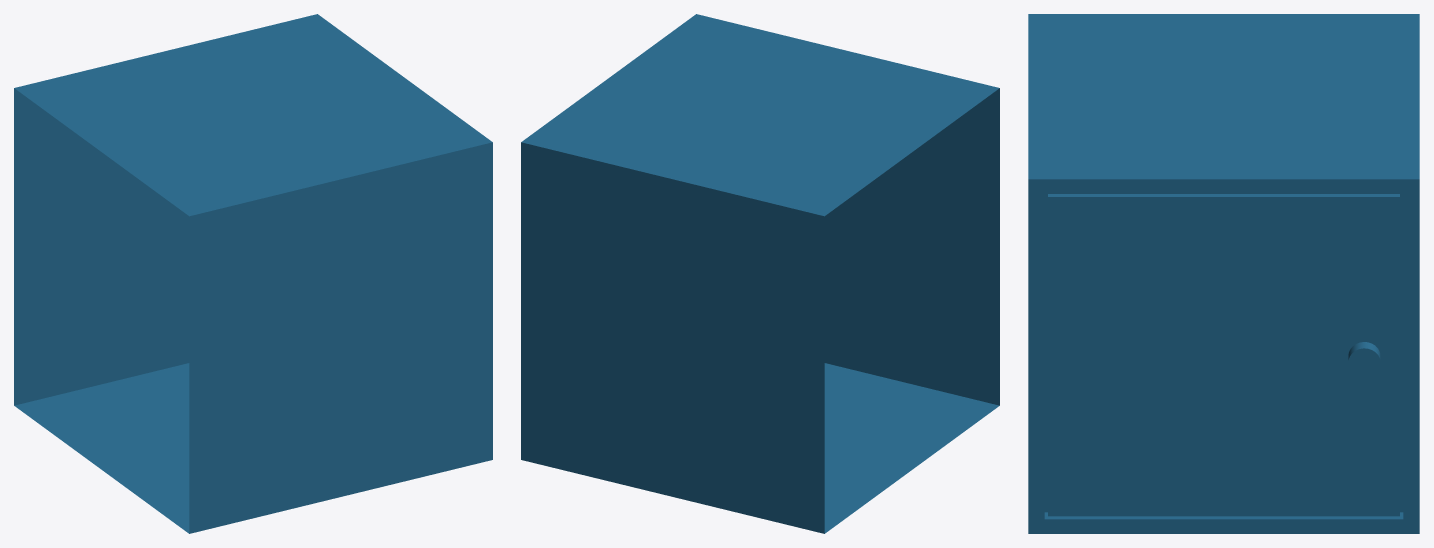
3 renders of one model, left to right at view 1: azimuth 30°, elevation 25°; view 2: azimuth 150°, elevation 25°; view 3: azimuth 270°, elevation 25°, orthographic. The views are drawn at different scales.
Visible parts, largest first — view 1: Group2.3; view 2: Group2.3; view 3: Group2.3, Group3.5.
Part boxes in pixels (x1=…): Group2.3: x1=14, y1=14, x2=492, y2=533; Group2.3: x1=521, y1=14, x2=999, y2=533; Group2.3: x1=1028, y1=14, x2=1419, y2=533; Group3.5: x1=1348, y1=342, x2=1380, y2=377.
Size of the model in its own units: 24.94 by 24 by 24.
